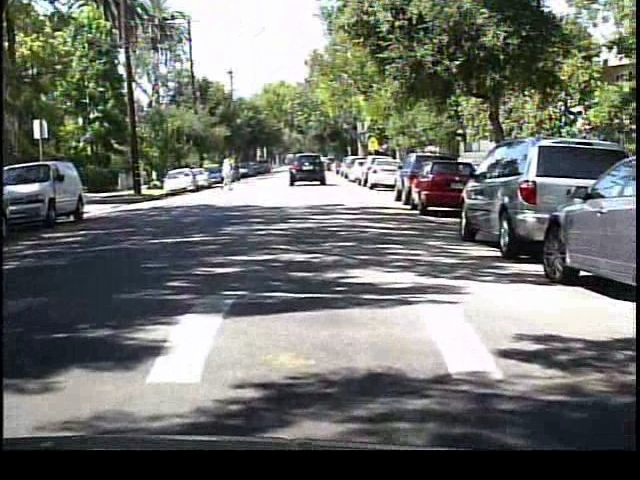person: (217, 153, 238, 194)
